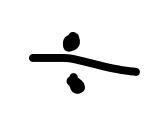div: (27, 32, 141, 94)
